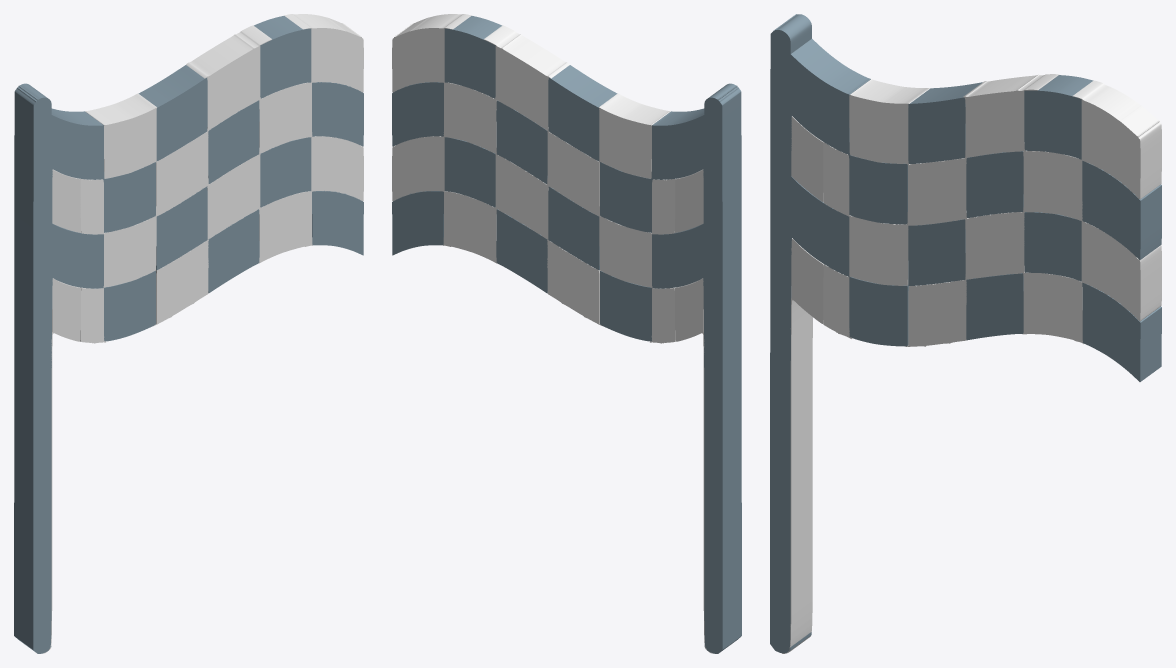
Rendered from finish.gltf.
3 views of the same model, side by side, from view 1: azimuth 30°, elevation 25°; view 2: azimuth 150°, elevation 25°; view 3: azimuth 330°, elevation 25° (orthographic). The views are drawn at different scales.
Visible parts, largest first — view 1: Node10, Node1, Node7, Node6, Node3, Node2, Node5, Node4, Node8, Node9, Node12, Node13 (+1 smaller); view 2: Node10, Node1, Node7, Node6, Node3, Node2, Node5, Node4, Node8, Node9, Node12, Node13 (+1 smaller); view 3: Node10, Node1, Node11, Node2, Node3, Node7, Node6, Node4, Node5, Node9, Node8, Node12 (+1 smaller).
Boxes of the visible parts, x1,y1,x2,y2 form: Node10: (80,14,363,343); Node1: (14,83,155,653); Node7: (138,65,207,161); Node6: (254,16,311,98); Node3: (312,191,363,255); Node2: (312,82,363,146); Node5: (260,137,311,207); Node4: (208,100,259,183); Node8: (208,209,259,293); Node9: (156,186,207,270); Node12: (52,278,80,341); Node13: (52,169,80,232); Node10: (392,14,675,343); Node1: (600,83,741,653); Node7: (548,65,617,161); Node6: (444,16,501,98); Node3: (392,191,443,255); Node2: (392,82,443,146); Node5: (444,137,495,207); Node4: (496,100,547,183); Node8: (496,209,547,293); Node9: (548,186,599,270); Node12: (675,278,703,341); Node13: (675,169,703,232); Node10: (823,74,1161,346); Node1: (770,14,908,653); Node11: (782,298,812,653); Node2: (1082,160,1161,259); Node3: (1082,283,1161,381); Node7: (908,82,982,163); Node6: (1024,75,1093,159); Node4: (966,151,1023,217); Node5: (1024,212,1081,281); Node9: (908,219,965,285); Node8: (966,273,1023,340); Node12: (791,238,824,323).
Size of the model in its own units: 3.94 by 6.38 by 0.3937.
